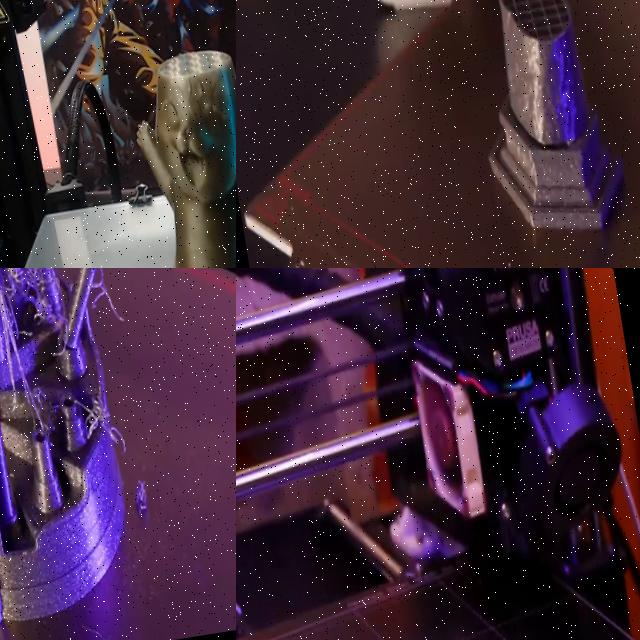spaghetti: (0, 268, 103, 460), (78, 268, 147, 335), (130, 473, 153, 516)
